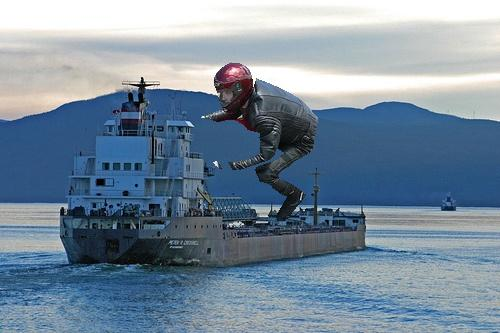tampered: (202, 63, 318, 221)
